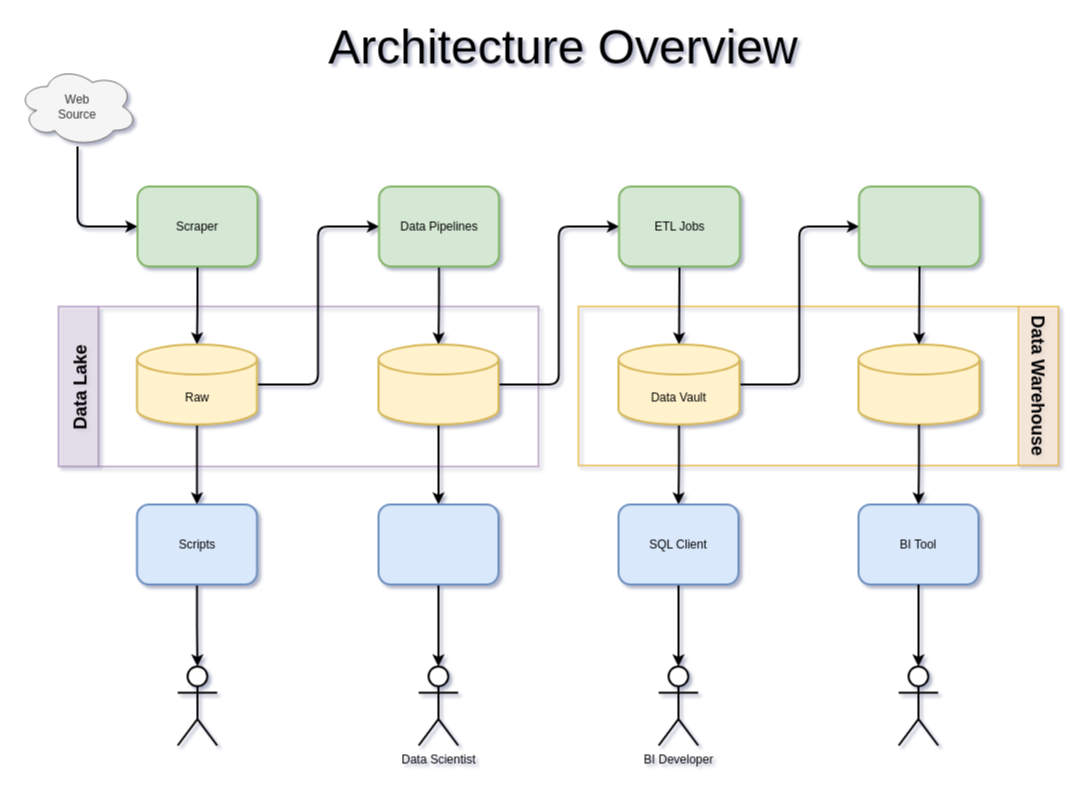
The diagram is 1083 pixels wide and 789 high, and some of its shapes have lost their labels. The centre of each missing label's shape, as x and y in pixels:
"BI User" goes at point (918, 705).
"Curated" goes at point (438, 384).
"Data Engineer" goes at point (197, 705).
"DB Views" goes at point (919, 226).
"Jupyter Notebook" goes at point (438, 544).
"Mart" goes at point (918, 384).
